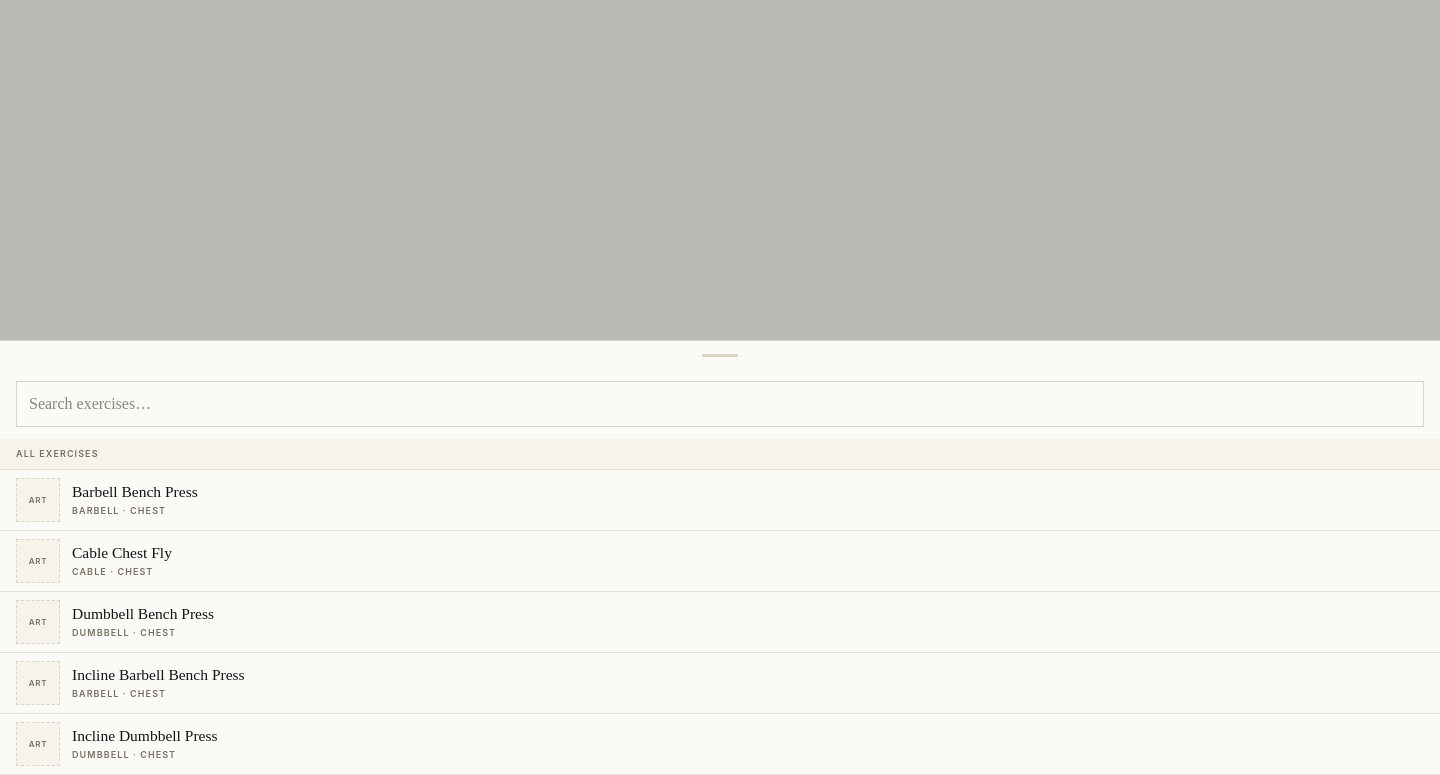
ExercisePicker › filters by name and by muscle, and reports the count
The image size is (1440, 775).
In the search field with test id "exercise-search": (720, 404) [16, 381, 1424, 427], type "bench"
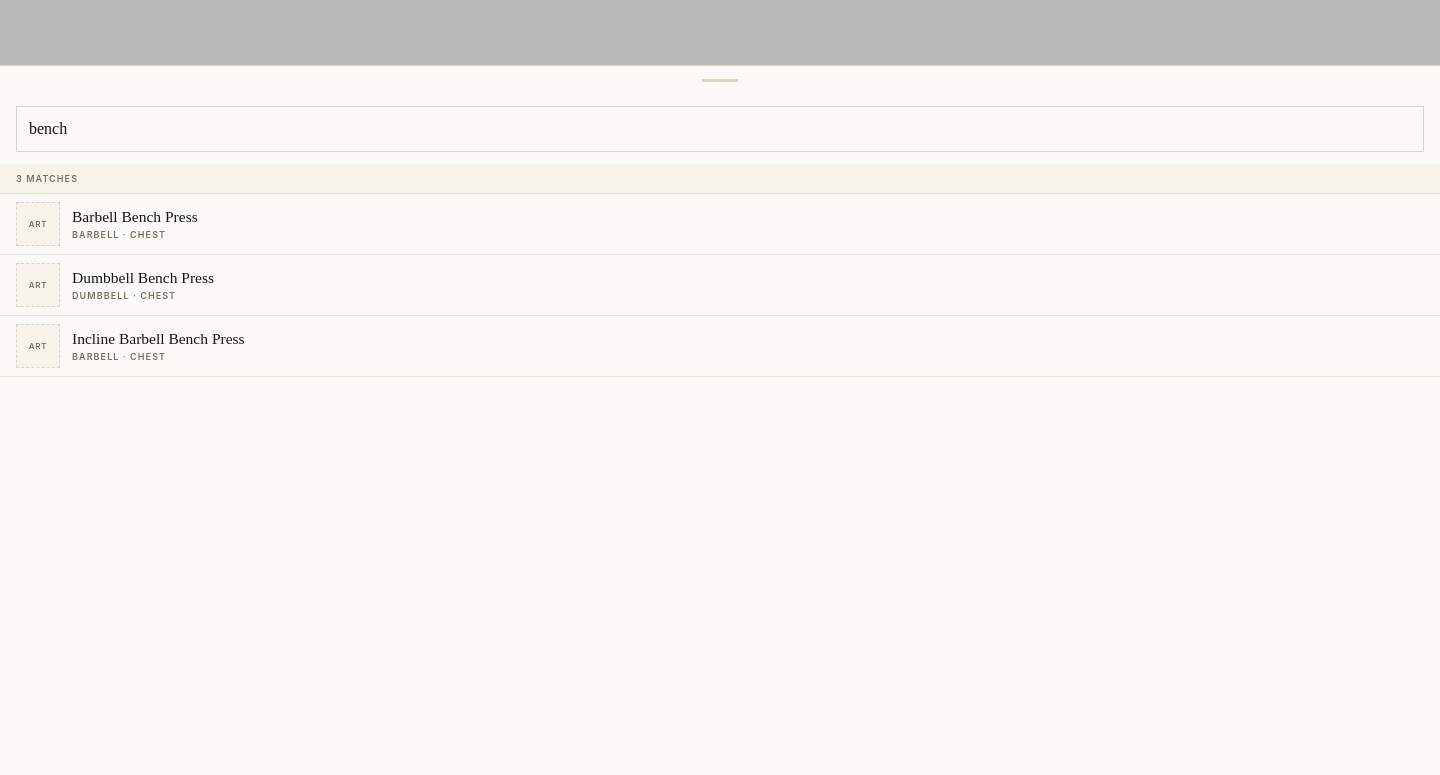
expect the button with test id "exercise-row" is shown: met, box [0, 194, 1439, 255]
Replace the text in the search field with test id "exercise-search" with "triceps": (720, 129) [16, 106, 1424, 152]
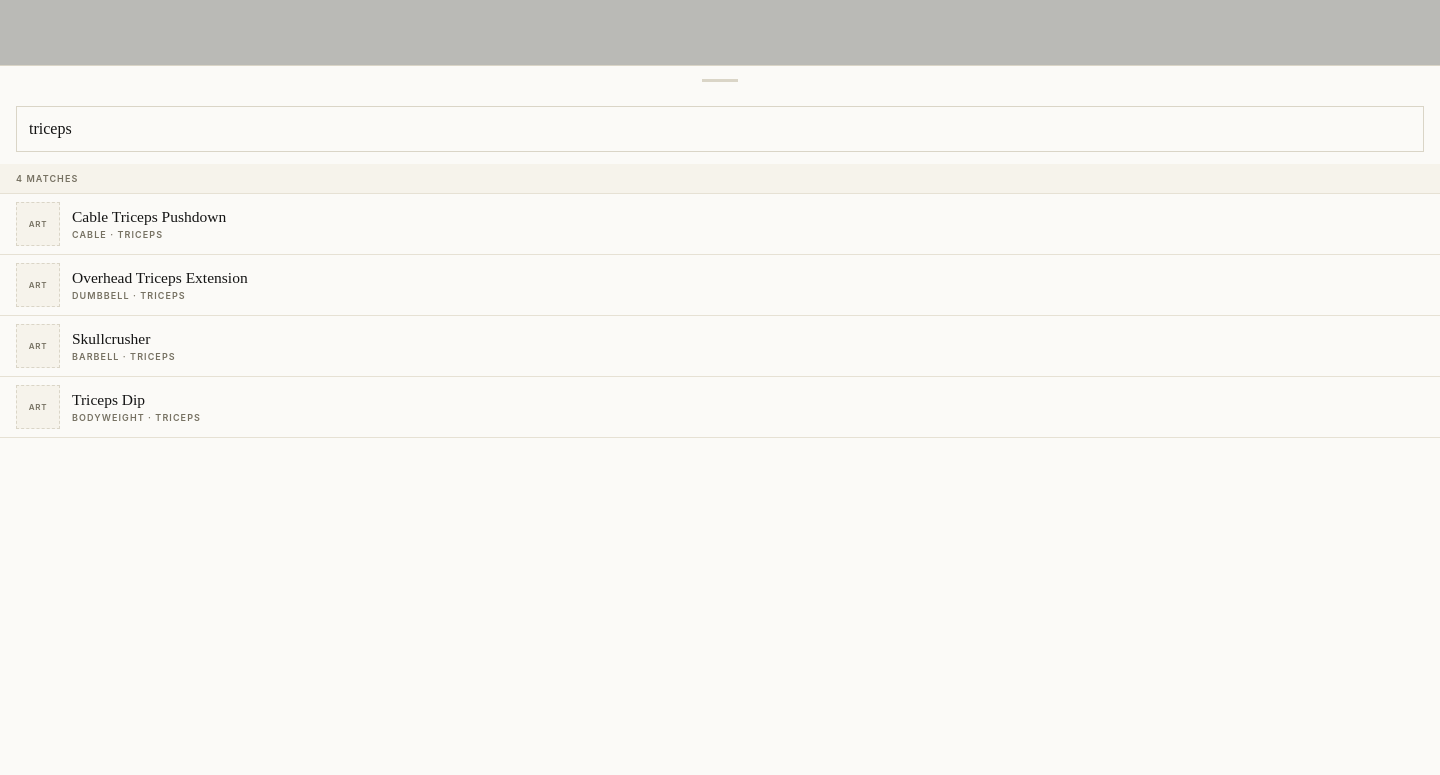
expect the button with test id "exercise-row" is shown: met, box [0, 194, 1439, 255]
